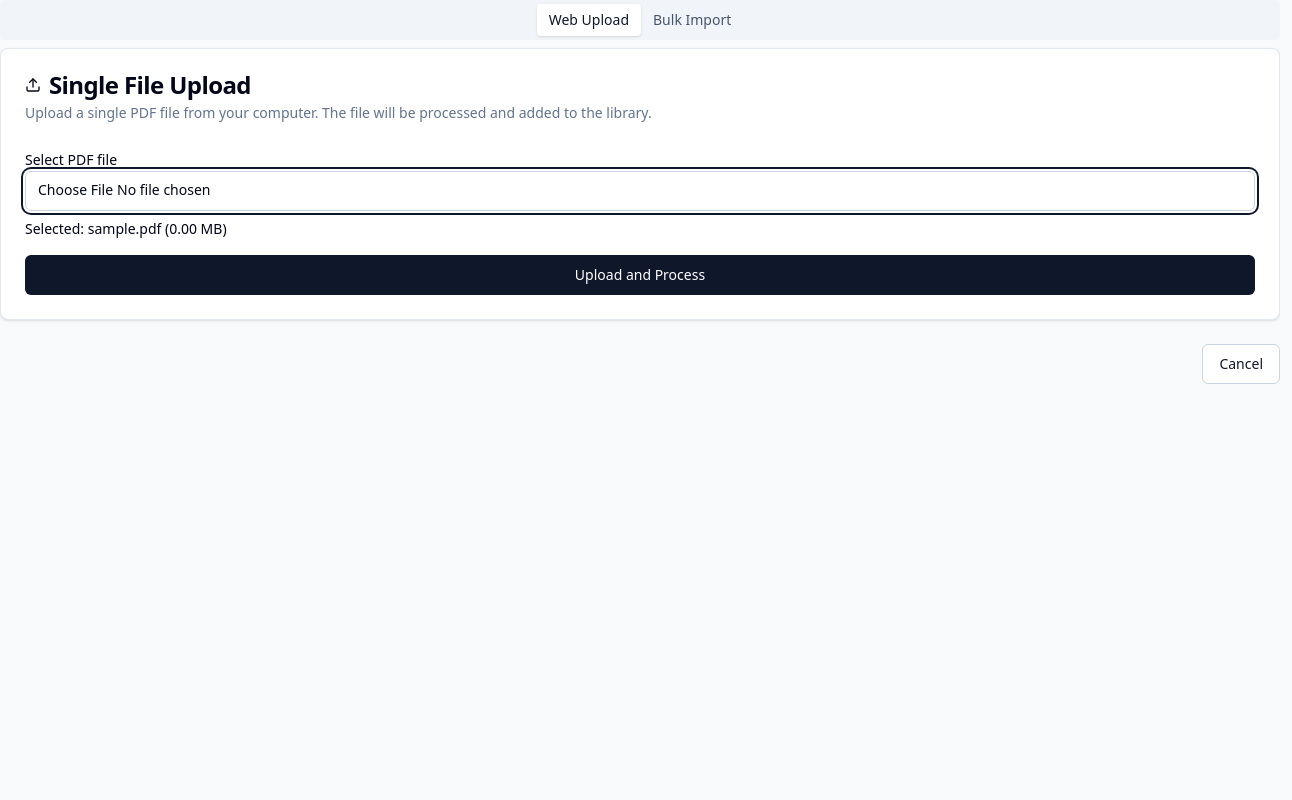
Scenario: ImportDialog › shows an error toast when the upload fails
Earlier steps of the test are not shown.
Step 1. Click the button "Upload and Process" → (640, 275), box [25,255,1255,295]
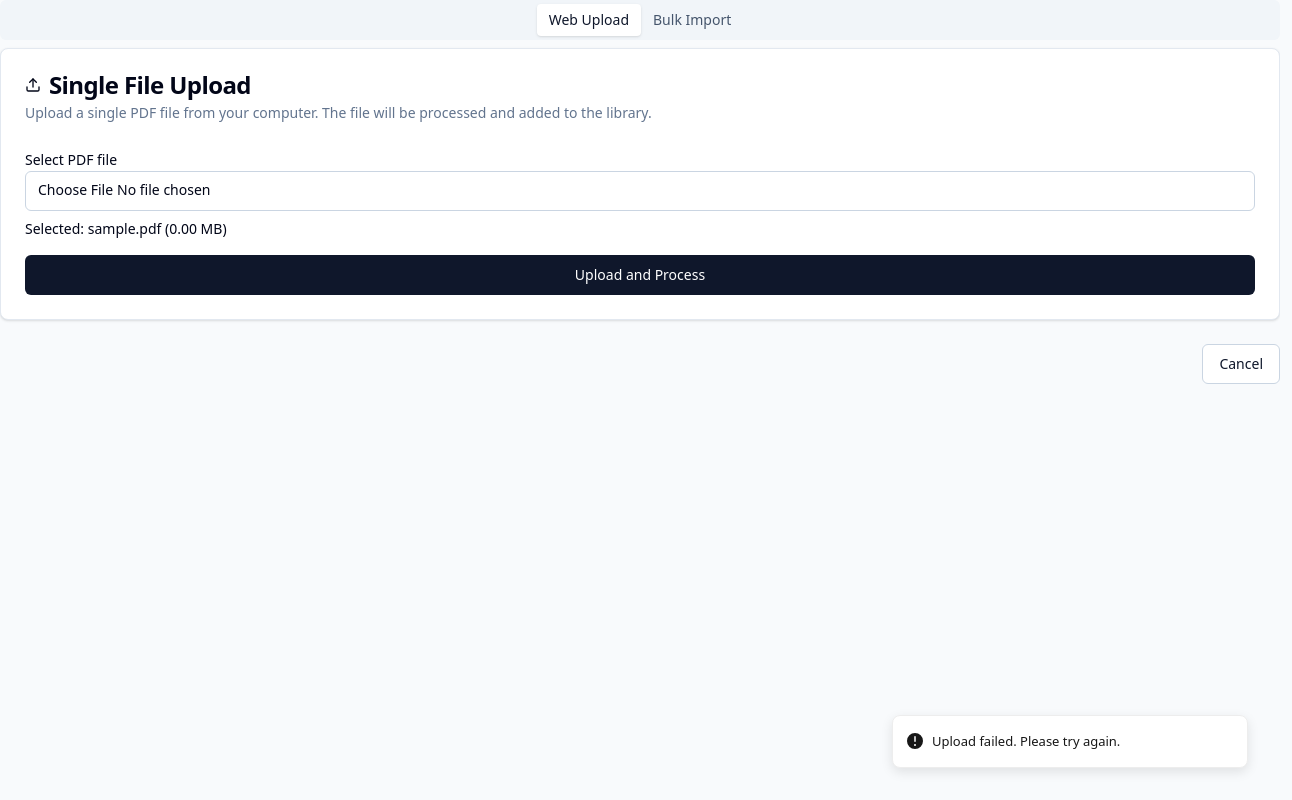
Expected: the text "Upload failed. Please try again." is shown, [932,732,1120,751]
